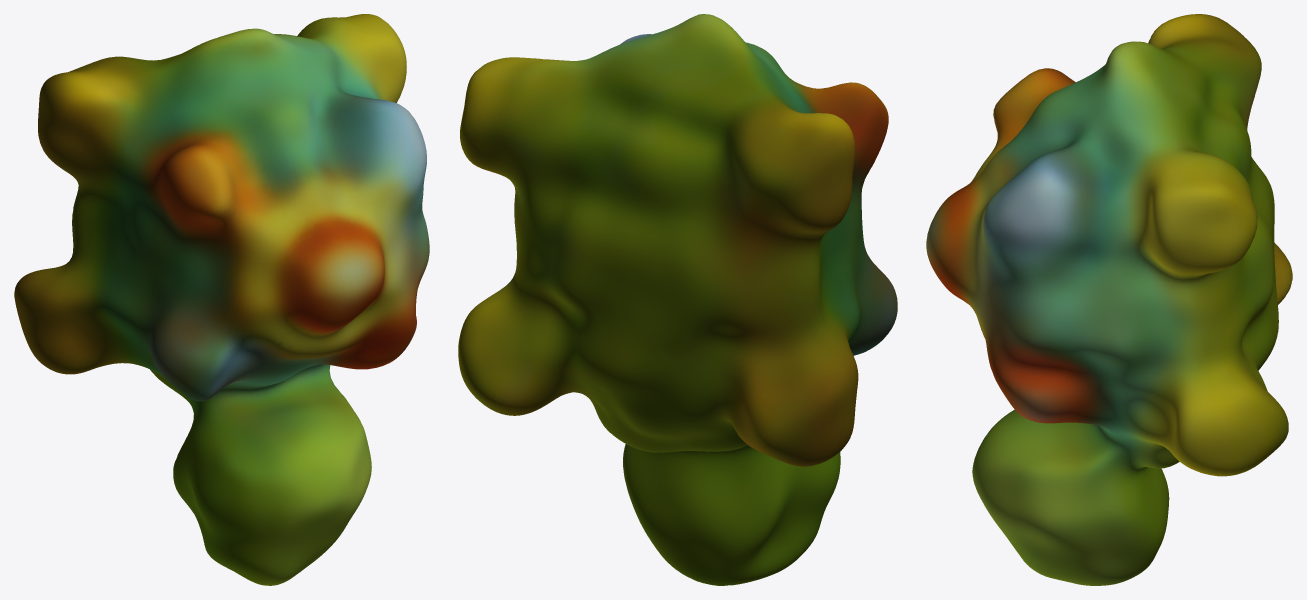
Rendered from turtle.glb.
The picture shows the model from 3 angles, left to right: view 1: azimuth 30°, elevation 25°; view 2: azimuth 150°, elevation 25°; view 3: azimuth 270°, elevation 25°; orthographic projection. The views are drawn at different scales.
Bounding box in the file's own units: 0.7072 × 0.9997 × 0.623.
